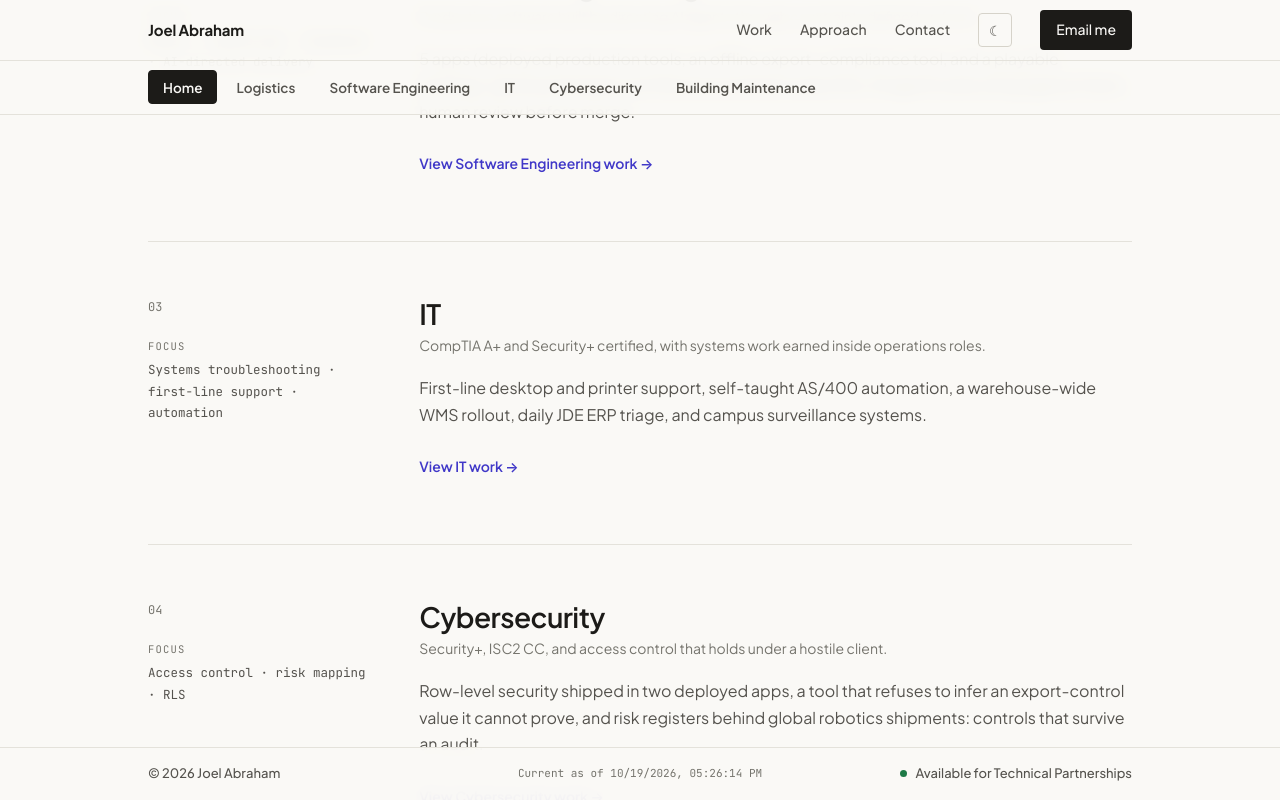
Test case: App › navigates from a Home hub card into its domain tab
(page scrolled)
Click the button "View IT work →". click: (469, 466)
box: 419,444 -> 519,488
(page scrolled)
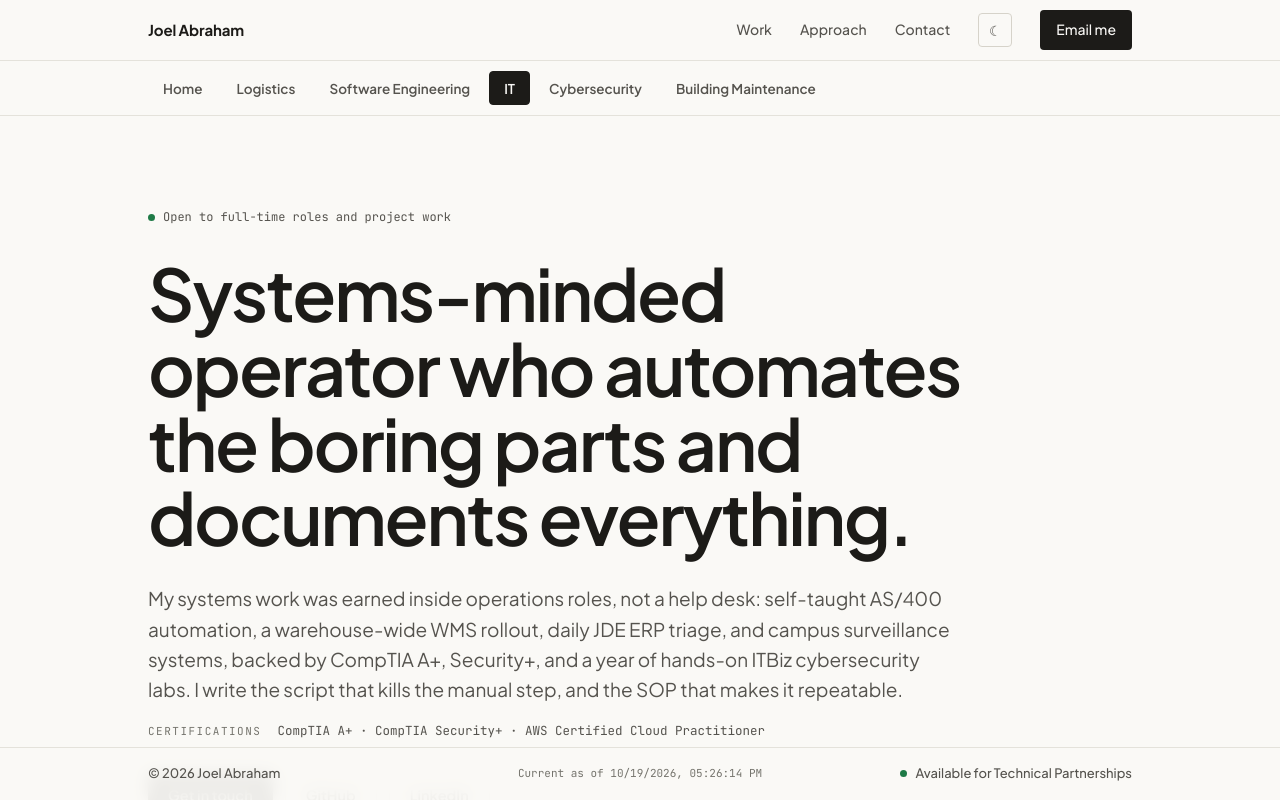
Now the heading "Systems-minded opera" is shown, box 148,256 -> 1024,555
